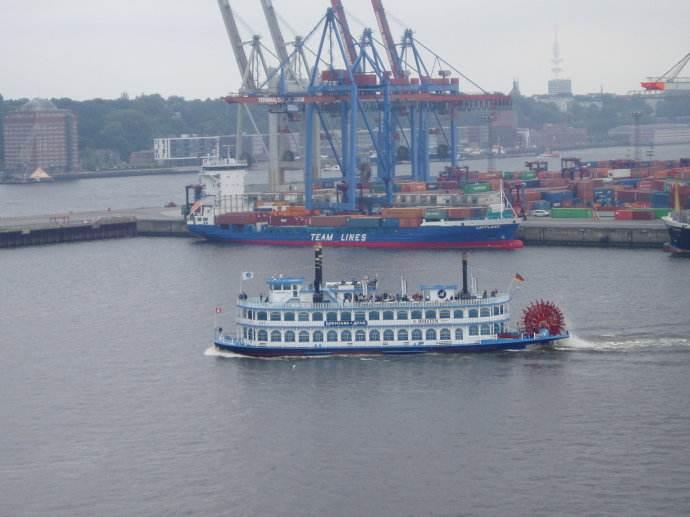youlun: (213, 242, 591, 360)
